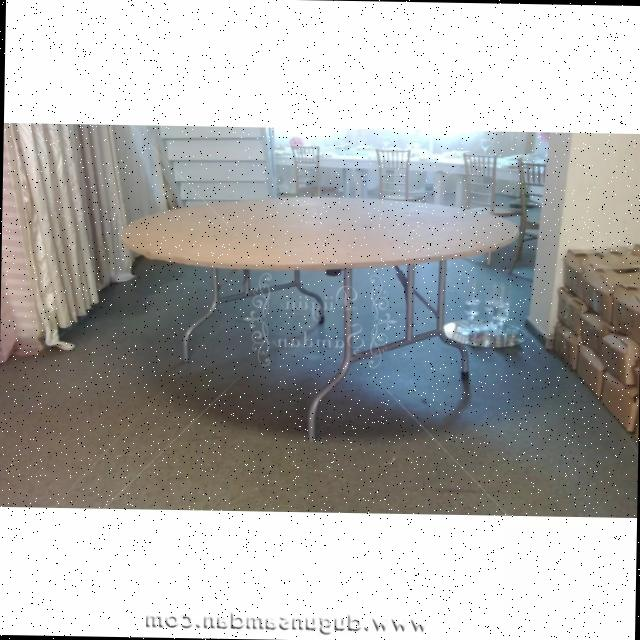Table: (94, 178, 538, 458)
